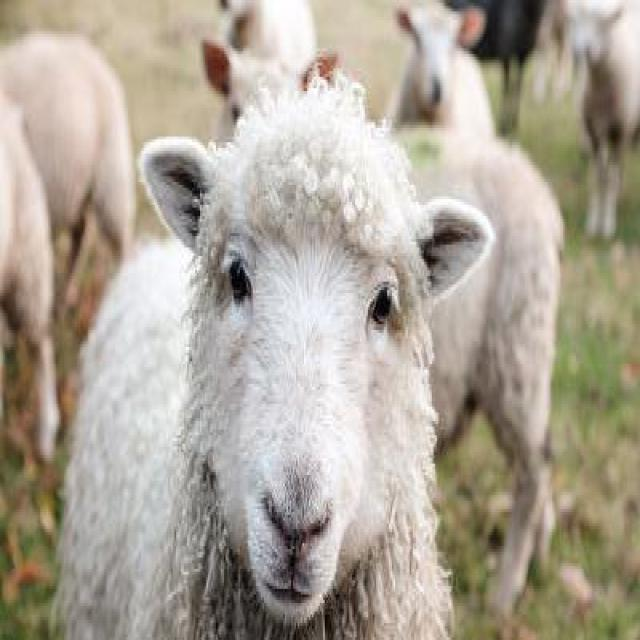Boar: (81, 111, 456, 637), (438, 121, 566, 584), (0, 10, 114, 464), (568, 0, 638, 239), (199, 0, 340, 103), (387, 0, 496, 109)
